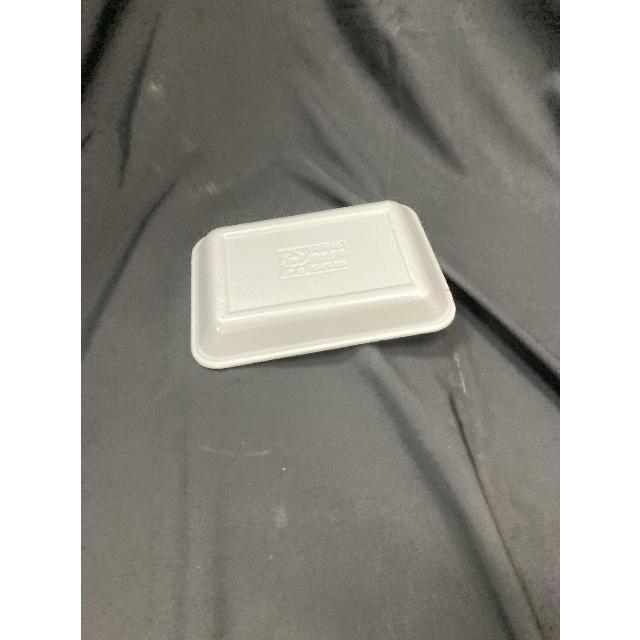Recipiente plastico: (191, 201, 455, 368)
